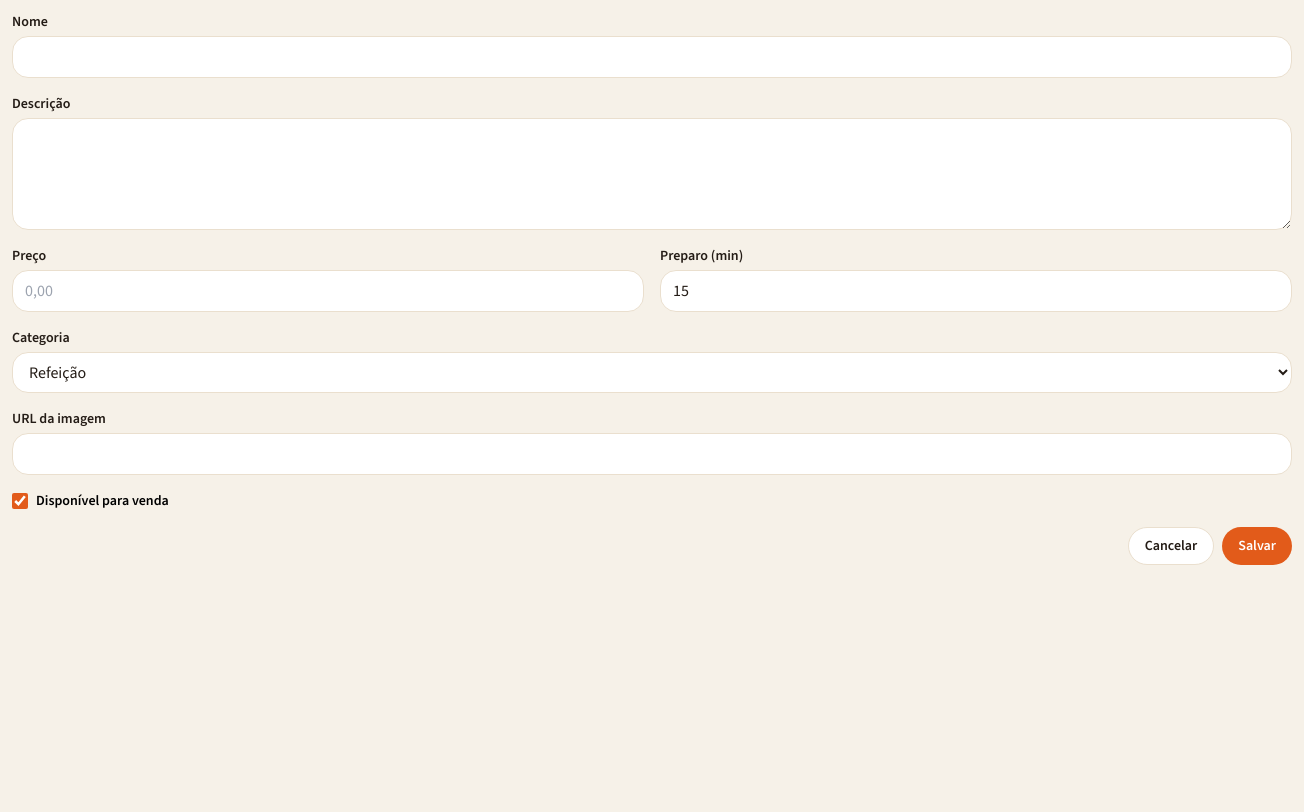
Test: interações do painel › valida o nome do produto enquanto o usuário digita
Type "ab" into the field labelled "Nome" at (652, 57), box [12,36,1292,78]
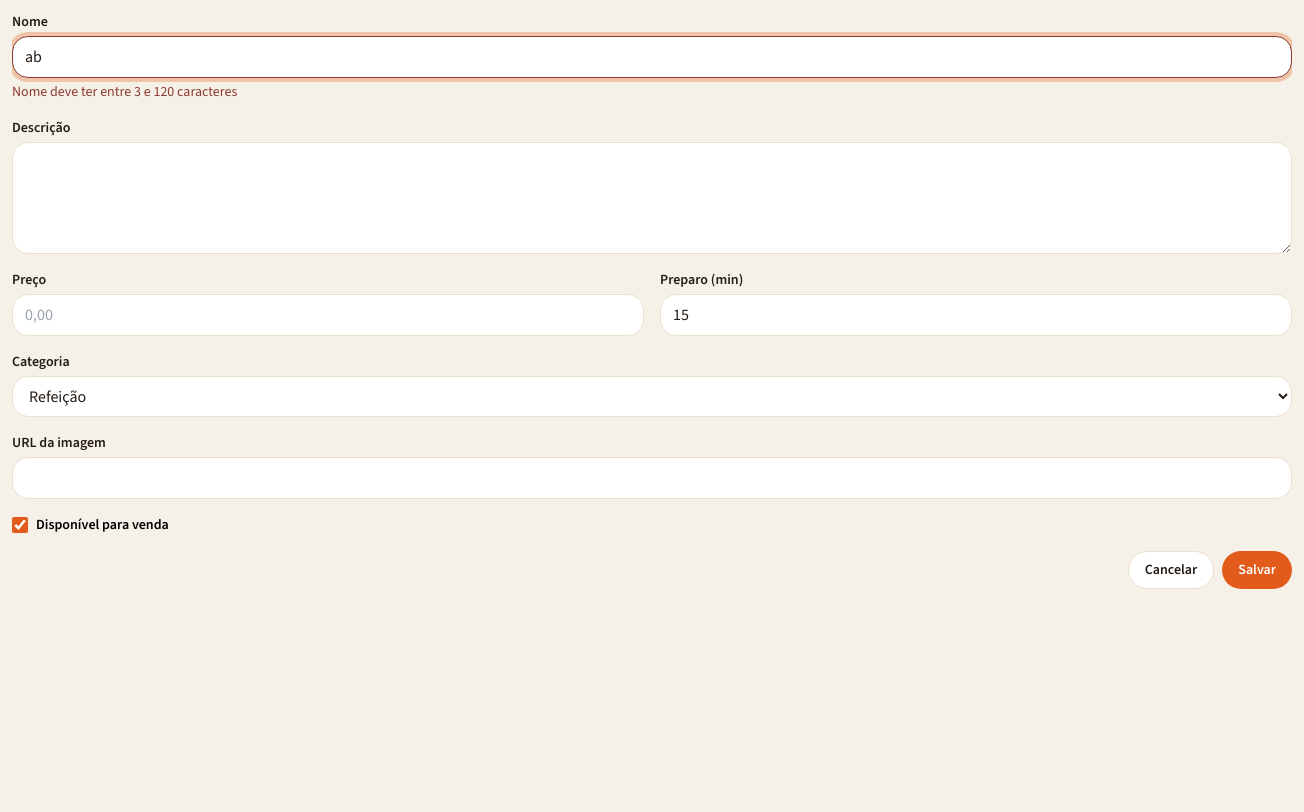
Check: the text "Nome deve ter entre 3 e 120 caracteres" is shown, box [12,82,237,101]
